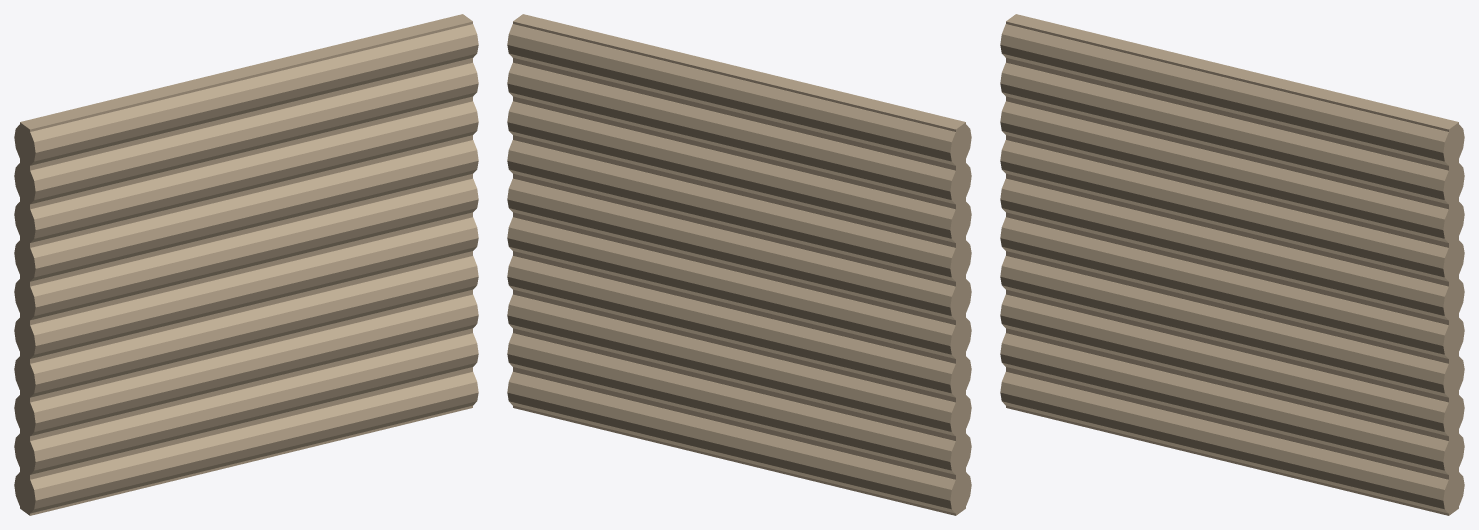
Rendered from wall-log-0-lod0.glb.
The picture shows the model from 3 angles, left to right: view 1: azimuth 30°, elevation 25°; view 2: azimuth 150°, elevation 25°; view 3: azimuth 330°, elevation 25°; orthographic projection.
Visible parts, largest first — view 1: Log infill, Hewn stacked log.004, Hewn stacked log.009, Hewn stacked log.003, Hewn stacked log.008, Hewn stacked log.006, Hewn stacked log.007, Hewn stacked log.002, Hewn stacked log.005, Hewn stacked log.001, Hewn stacked log; view 2: Log infill, Hewn stacked log.008, Hewn stacked log.009, Hewn stacked log.003, Hewn stacked log.007, Hewn stacked log.005, Hewn stacked log.006, Hewn stacked log.004, Hewn stacked log.002, Hewn stacked log.001, Hewn stacked log; view 3: Log infill, Hewn stacked log.009, Hewn stacked log.008, Hewn stacked log.007, Hewn stacked log.006, Hewn stacked log.005, Hewn stacked log.001, Hewn stacked log, Hewn stacked log.003, Hewn stacked log.002, Hewn stacked log.004.
Part boxes in pixels (bbox=[...]): Log infill: bbox=[20, 14, 472, 515]; Hewn stacked log.004: bbox=[14, 217, 478, 358]; Hewn stacked log.009: bbox=[14, 24, 478, 165]; Hewn stacked log.003: bbox=[14, 256, 478, 397]; Hewn stacked log.008: bbox=[14, 62, 478, 204]; Hewn stacked log.006: bbox=[14, 140, 478, 281]; Hewn stacked log.007: bbox=[14, 101, 478, 242]; Hewn stacked log.002: bbox=[14, 294, 478, 436]; Hewn stacked log.005: bbox=[14, 178, 478, 320]; Hewn stacked log.001: bbox=[14, 333, 478, 474]; Hewn stacked log: bbox=[14, 372, 478, 513]; Log infill: bbox=[513, 14, 965, 515]; Hewn stacked log.008: bbox=[507, 62, 971, 204]; Hewn stacked log.009: bbox=[507, 24, 971, 165]; Hewn stacked log.003: bbox=[507, 256, 971, 397]; Hewn stacked log.007: bbox=[507, 101, 971, 242]; Hewn stacked log.005: bbox=[507, 178, 971, 320]; Hewn stacked log.006: bbox=[507, 140, 971, 281]; Hewn stacked log.004: bbox=[507, 217, 971, 358]; Hewn stacked log.002: bbox=[507, 294, 971, 436]; Hewn stacked log.001: bbox=[507, 333, 971, 474]; Hewn stacked log: bbox=[507, 372, 971, 513]; Log infill: bbox=[1006, 14, 1458, 515]; Hewn stacked log.009: bbox=[1000, 24, 1464, 165]; Hewn stacked log.008: bbox=[1000, 62, 1464, 204]; Hewn stacked log.007: bbox=[1000, 101, 1464, 242]; Hewn stacked log.006: bbox=[1000, 140, 1464, 281]; Hewn stacked log.005: bbox=[1000, 178, 1464, 320]; Hewn stacked log.001: bbox=[1000, 333, 1464, 474]; Hewn stacked log: bbox=[1000, 372, 1464, 513]; Hewn stacked log.003: bbox=[1000, 256, 1464, 397]; Hewn stacked log.002: bbox=[1000, 294, 1464, 436]; Hewn stacked log.004: bbox=[1000, 217, 1464, 358].
Bounding box in the file's own units: 3 × 2.5 × 0.25.
